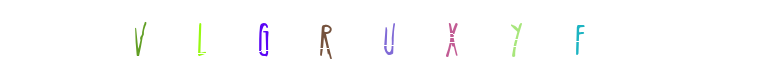F: (538, 0, 618, 80)
G: (272, 0, 352, 80)
L: (223, 0, 303, 80)
R: (313, 0, 393, 80)
U: (324, 0, 404, 80)
V: (217, 0, 297, 80)
X: (345, 0, 425, 80)
Y: (379, 0, 459, 80)
